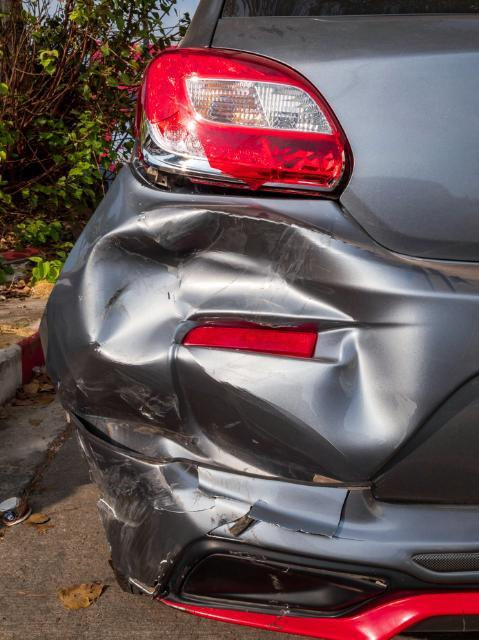Bumper: (19, 178, 479, 629)
Light: (118, 47, 346, 195)
